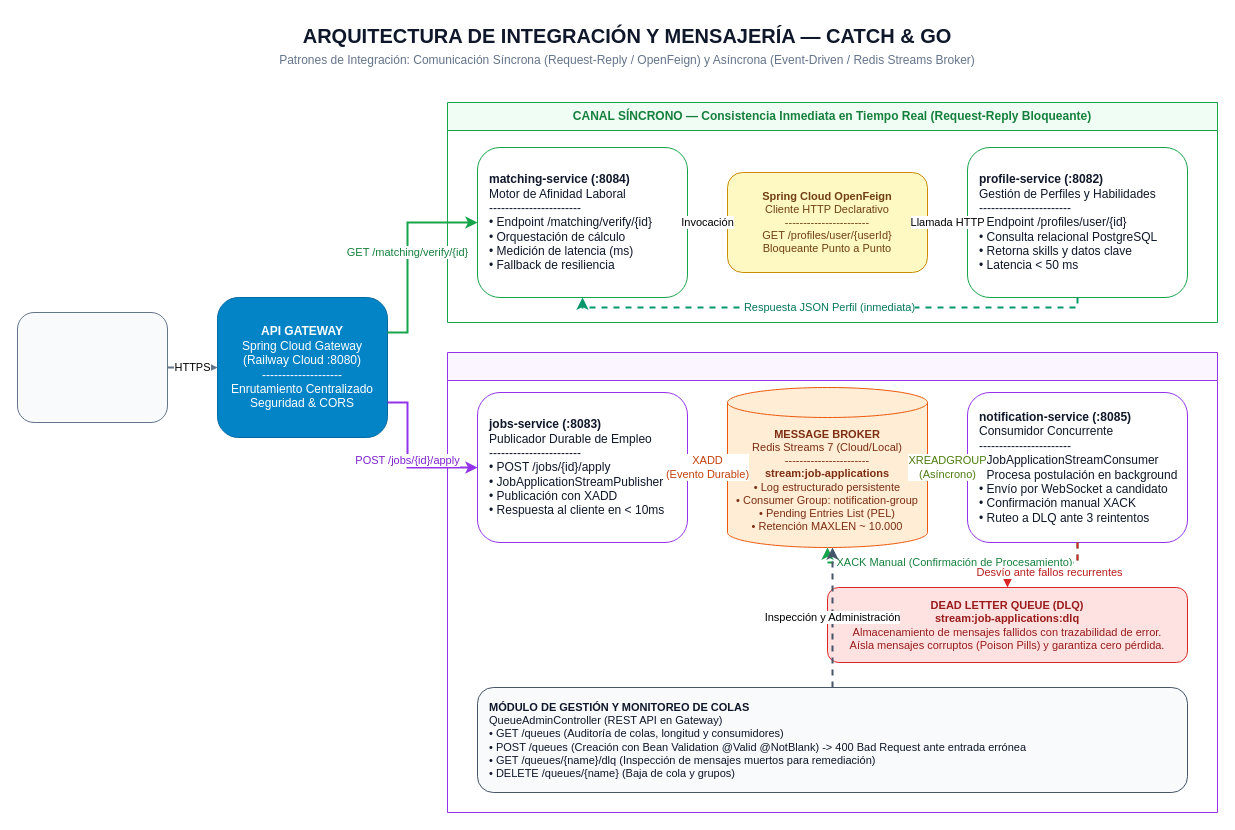
Image size: 1235x830. Some labels were removed from this diagram. Here are the shapes that lost their labels. From the top down, the box of each, then its label:
(16, 312, 168, 422): CAPA DE ACCESO Frontend Web (React) & App Móvil (Android)
(446, 352, 1218, 812): CANAL ASÍNCRONO — Desacoplamiento & Resiliencia (Event-Driven Message Broker)
